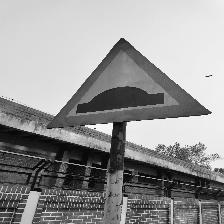Speed-breaker: (45, 38, 211, 127)
